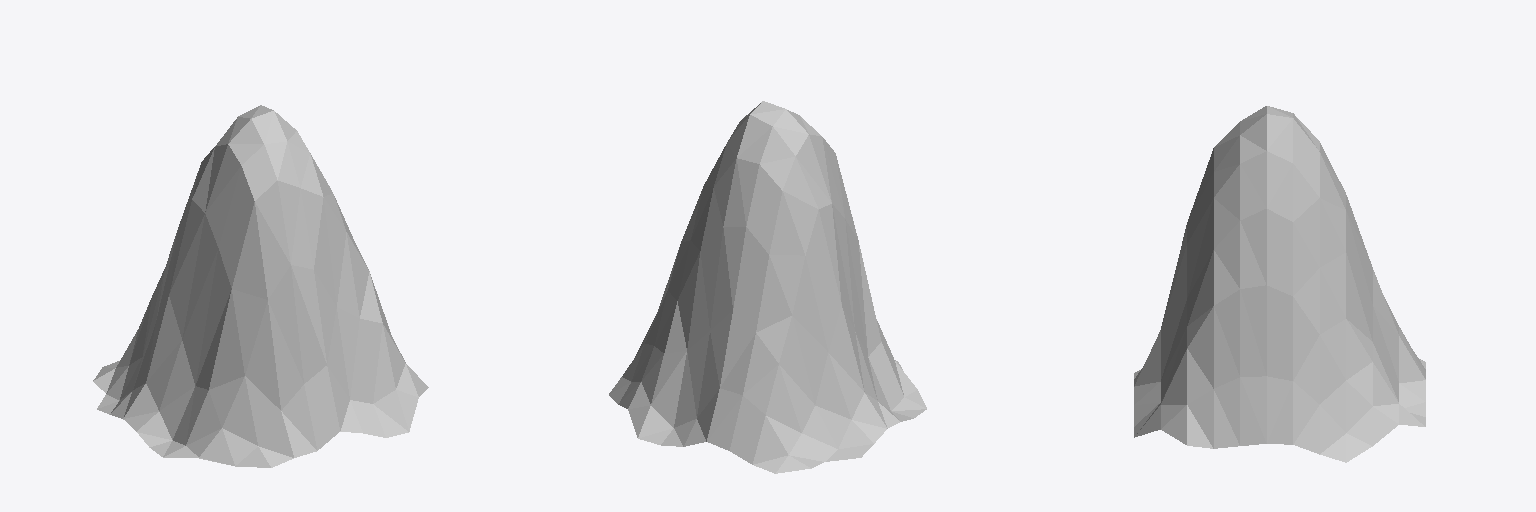
The model's file is tree_35.obj.
3 views of the same model, side by side, from view 1: azimuth 30°, elevation 25°; view 2: azimuth 150°, elevation 25°; view 3: azimuth 270°, elevation 25° (orthographic).
Parts seen in each view (by area): view 1: tree_35; view 2: tree_35; view 3: tree_35.
Part boxes in pixels (x1,y1,x2,y2): tree_35: (93, 105, 428, 467); tree_35: (609, 101, 926, 473); tree_35: (1134, 106, 1425, 462).
Size of the model in its own units: 11 by 12.28 by 11.